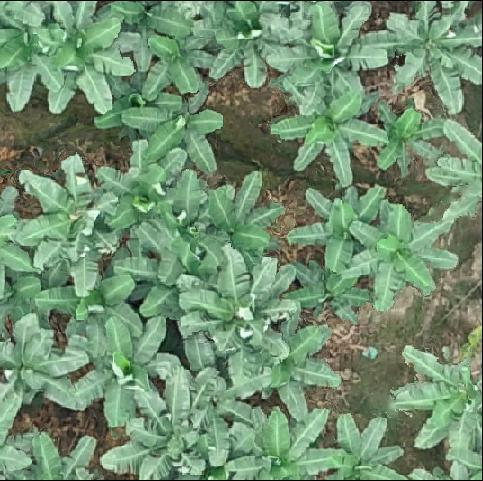Banana-plant: (179, 251, 295, 360), (19, 157, 116, 287), (106, 380, 226, 481), (374, 0, 483, 111), (276, 0, 387, 107), (264, 85, 384, 182), (402, 345, 483, 481), (352, 207, 456, 309), (74, 317, 165, 428), (2, 317, 86, 434), (50, 0, 130, 111), (124, 88, 227, 173), (34, 273, 143, 351), (291, 185, 383, 271), (234, 409, 338, 481), (137, 198, 225, 280), (259, 329, 343, 414), (142, 0, 215, 97), (1, 0, 63, 113), (212, 0, 286, 89), (104, 141, 182, 224), (291, 258, 373, 328), (330, 411, 407, 481), (369, 98, 439, 173)
